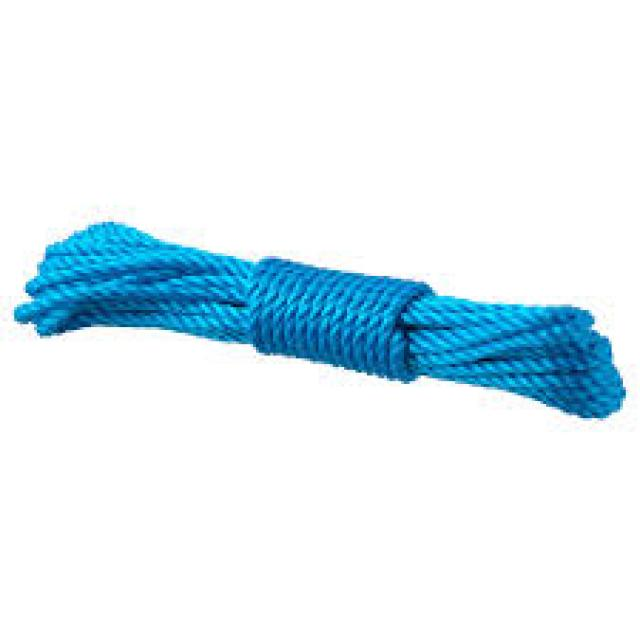rope: (28, 222, 626, 421)
